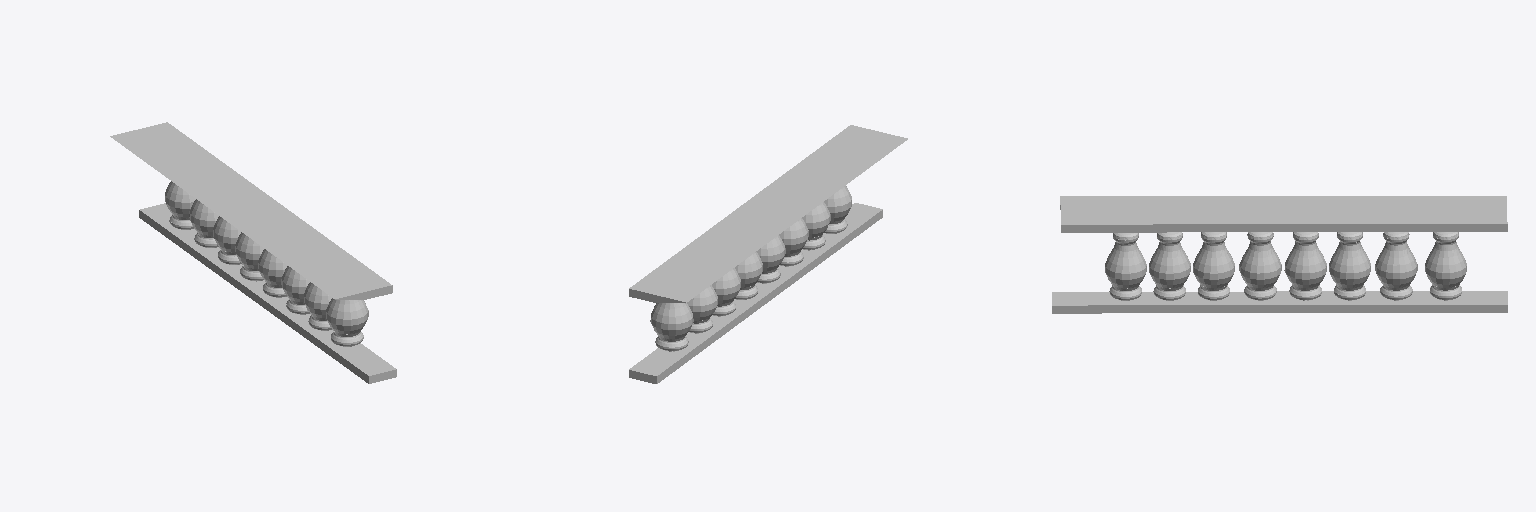
The model's file is Atrium_RepeatableRailwaywithPillars.obj.
3 views of the same model, side by side, from view 1: azimuth 30°, elevation 25°; view 2: azimuth 150°, elevation 25°; view 3: azimuth 270°, elevation 25° (orthographic).
Visible parts, largest first — view 1: polySurface362; view 2: polySurface362; view 3: polySurface362.
Boxes of the visible parts, box(x1,y1,x2,y2) form: polySurface362: box(110, 122, 396, 383); polySurface362: box(629, 125, 907, 383); polySurface362: box(1052, 196, 1507, 313).
Bounding box in the file's own units: 74.56 × 96.87 × 450.